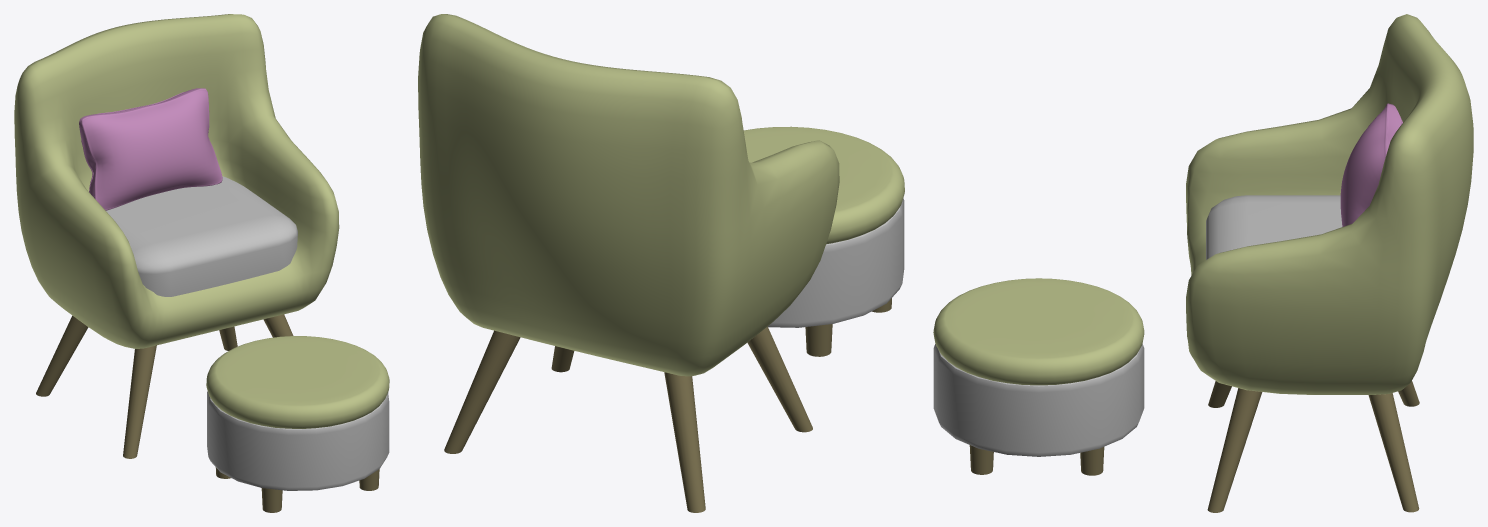
File: chair.gltf
3 renders of one model, left to right at view 1: azimuth 30°, elevation 25°; view 2: azimuth 150°, elevation 25°; view 3: azimuth 270°, elevation 25°, orthographic. The views are drawn at different scales.
Visible parts, largest first — view 1: pCylinder13; view 2: pCylinder13; view 3: pCylinder13.
Part boxes in pixels (x1,y1,x2,y2): pCylinder13: (14, 14, 389, 512); pCylinder13: (418, 14, 904, 512); pCylinder13: (933, 14, 1473, 512).
Size of the model in its own units: 5.46 by 7.14 by 9.11.
